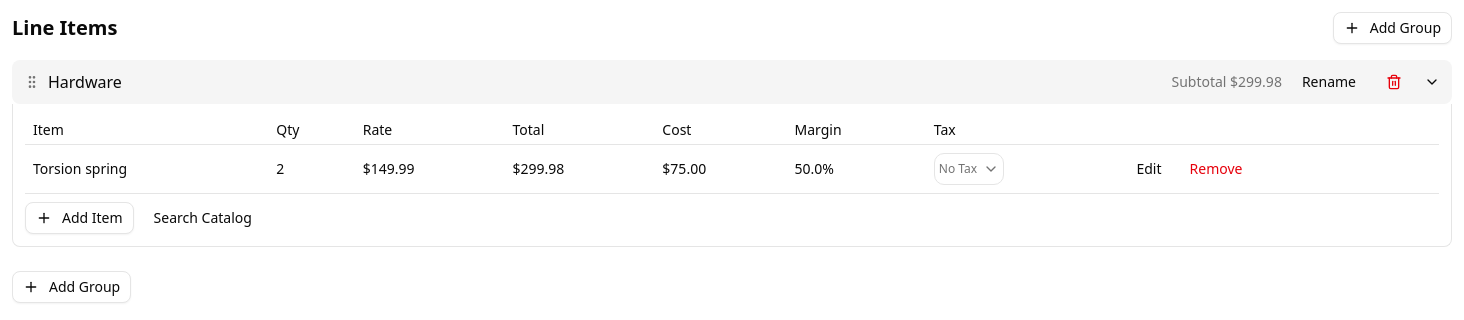
Test case: GroupedLineItems › toggles collapsed state when the group header is clicked
Expected: the text "Torsion spring" is shown, [25,144,268,194]
Click the header to collapse.
What coordinates should you click on to do the following:
click the text "Hardware"
I would click on:
 (85, 82)
Its box is [48,70,122,94].
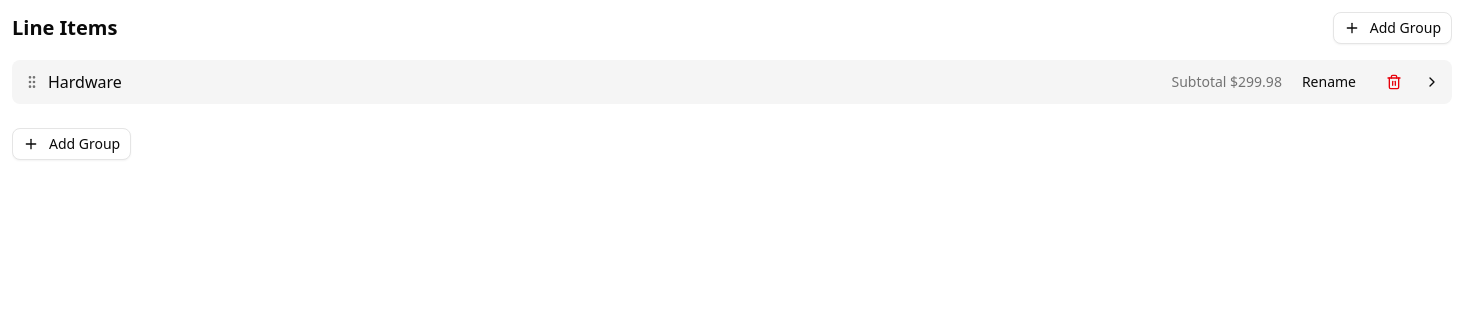
Expected: the text "Torsion spring" is gone
Click the header again to expand.
What coordinates should you click on to do the following:
click the text "Hardware"
I would click on:
 (85, 82)
Its box is [48,70,122,94].
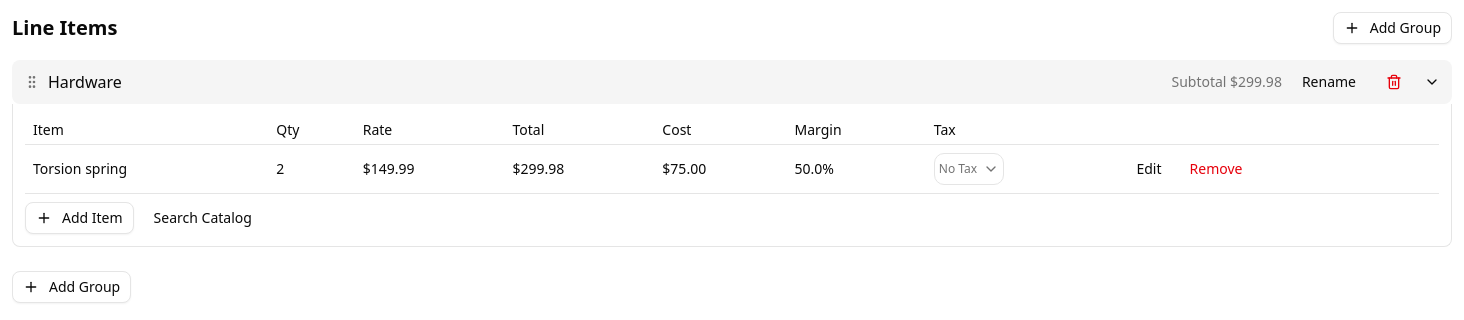
Expected: the text "Torsion spring" is shown, [25,144,268,194]
